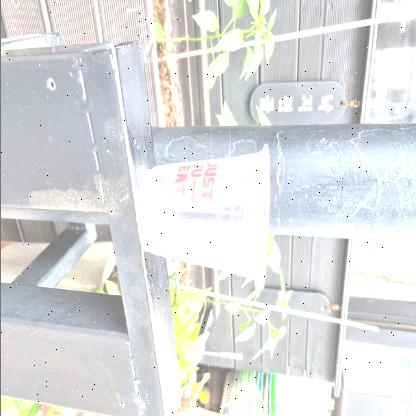Others: (132, 139, 274, 294)
